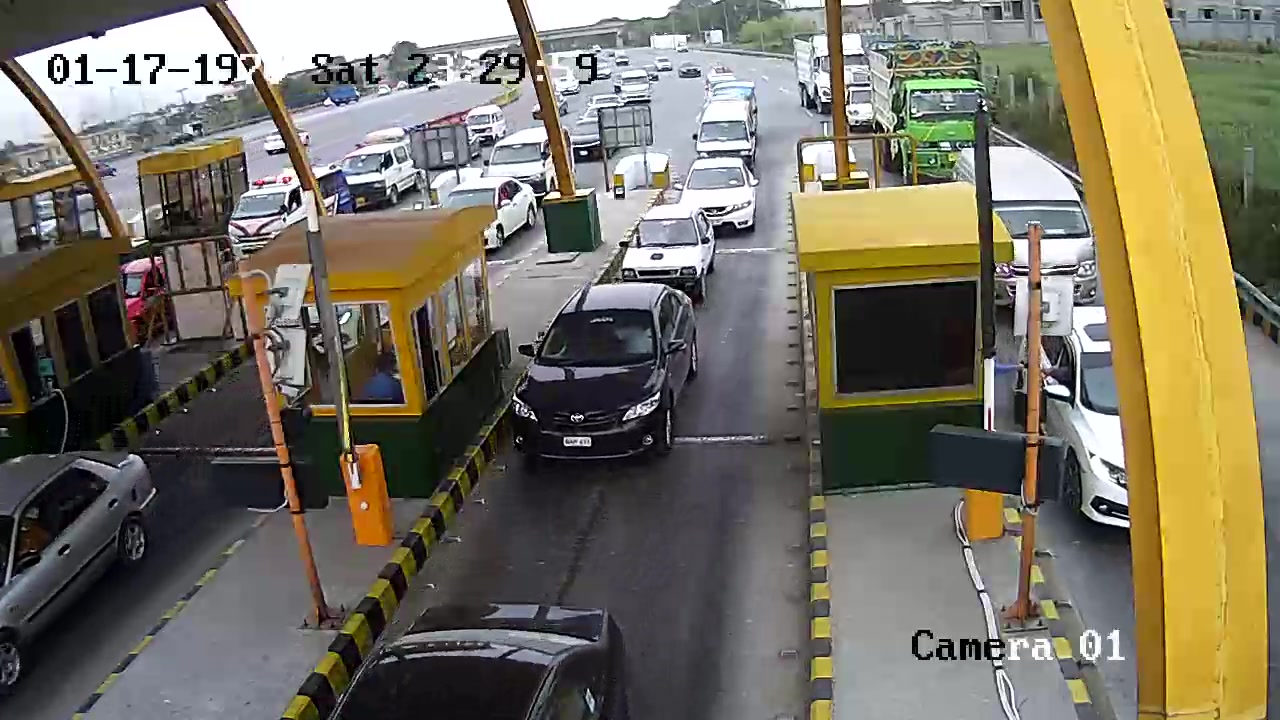F1: (507, 273, 727, 469)
